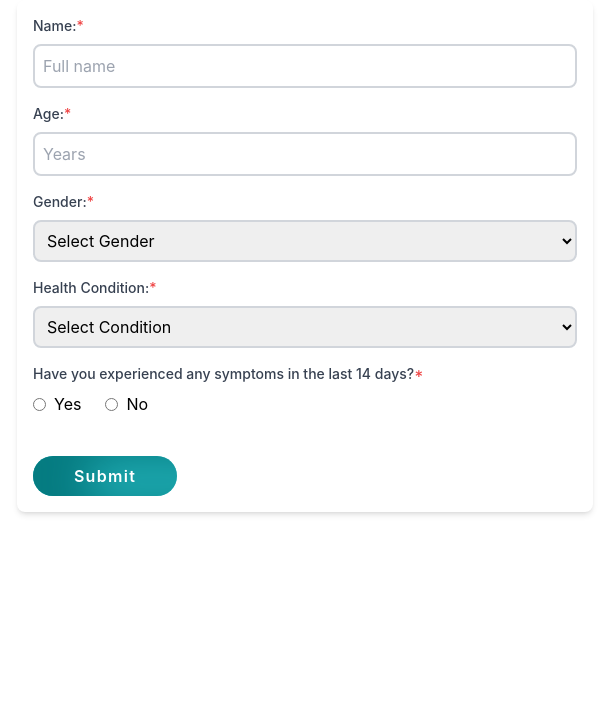
Test: Questionnaire Form › renders the 'Chronic Condition Details' field when health condition is 'Chronic illness'
Select "Chronic illness" for the health condition
Select "Chronic illness" in the dropdown labelled "Health Condition:*" at (305,327), box left=33, top=306, right=577, bottom=348
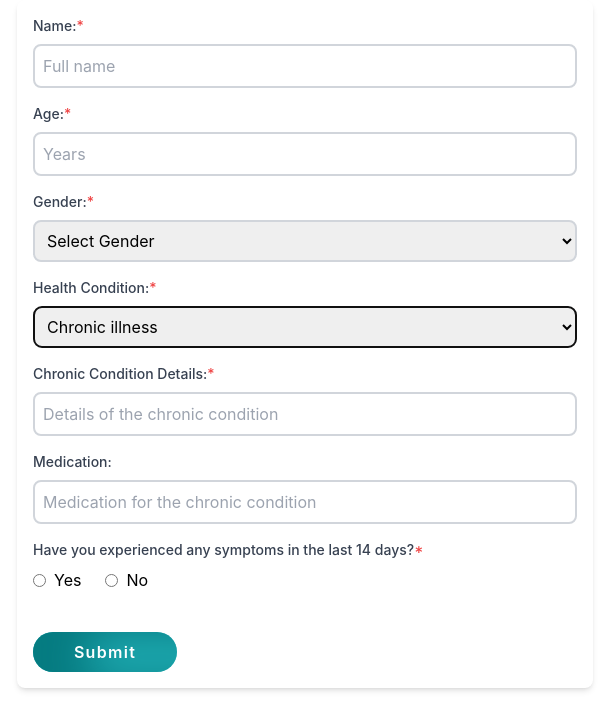
Check: the field labelled "Chronic Condition Details:*" is shown, box left=33, top=392, right=577, bottom=436
Check: the field labelled "Medication:" is shown, box left=33, top=480, right=577, bottom=524
